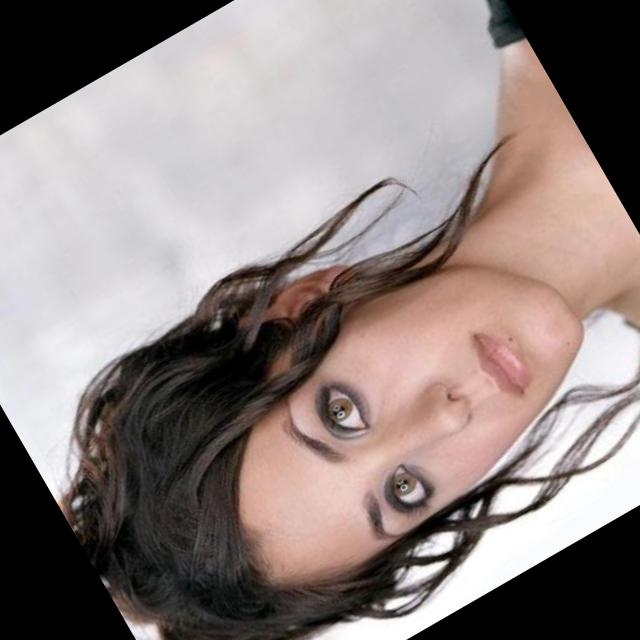bareface: (202, 254, 615, 600)
